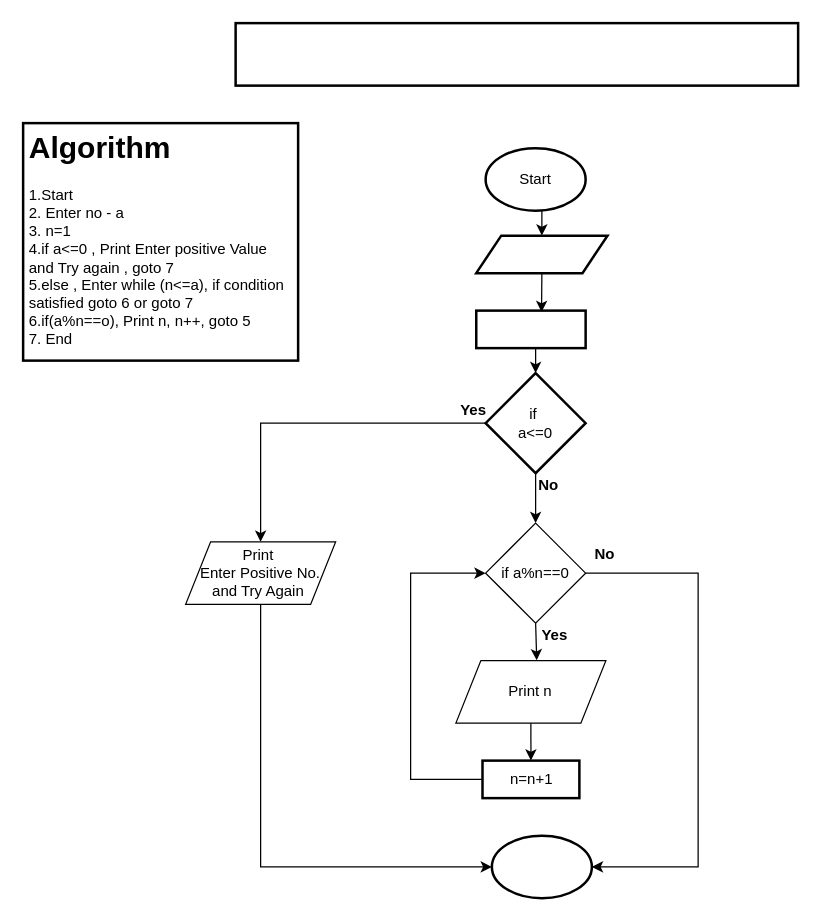
This 820x920 diagram has some shape labels left out. Each missing label, with the box of its shape:
End: (490, 834, 592, 899)
Enter a: (474, 234, 608, 274)
Find Factors of Given No.: (234, 21, 799, 86)
n=1: (474, 309, 586, 349)
